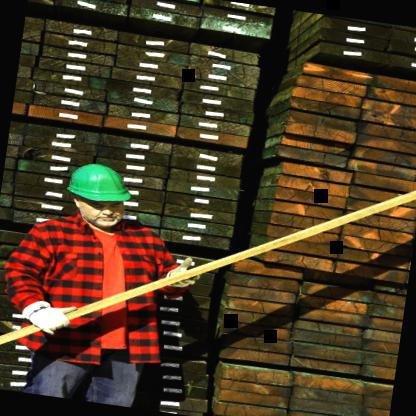helmet: (58, 152, 142, 236)
